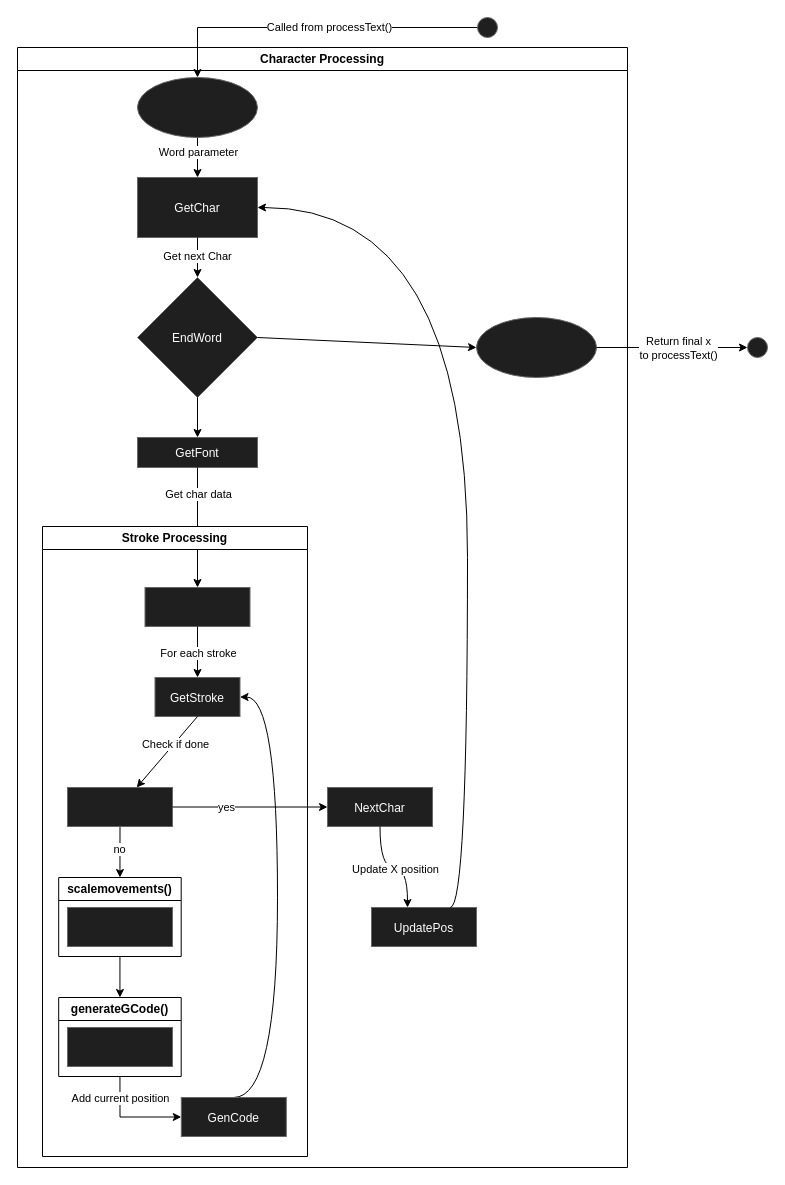
This 785x1185 diagram has some shape labels left out. Each missing label, with the centre of its shape:
"AdjustPos" goes at [119,1046].
"DoneStrokes" goes at [119,806].
"ProcessStrokes" goes at [197,606].
"processWord" goes at [197,107].
"ReturnPos" goes at [536,347].
"ScaleStroke" goes at [119,926].
